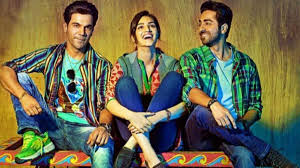Bad: (113, 1, 300, 168), (1, 1, 182, 168)
